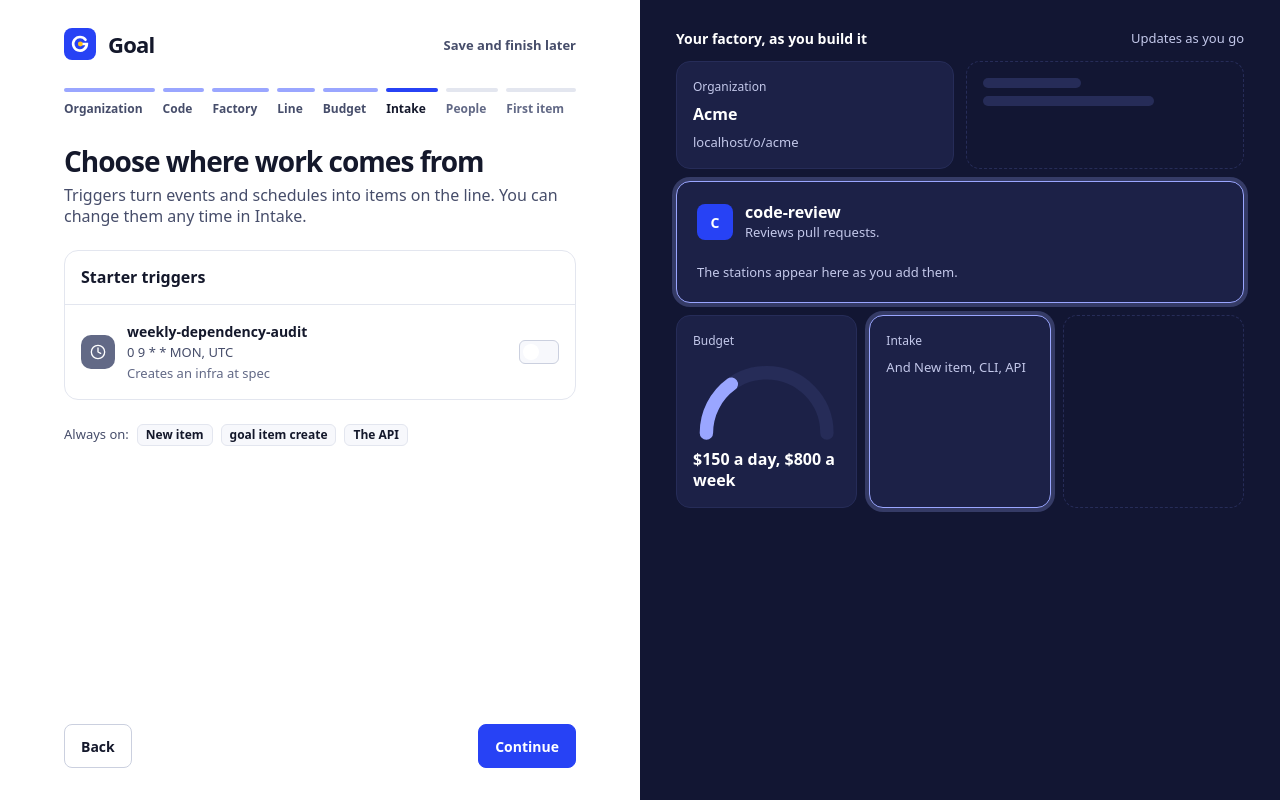
step 6, choose where work comes from › shows a refused publish on the step and stays on it
This screenshot has width=1280, height=800.
Click the switch named "weekly-dependency-audit" at (539, 352), box [519,340,559,364]
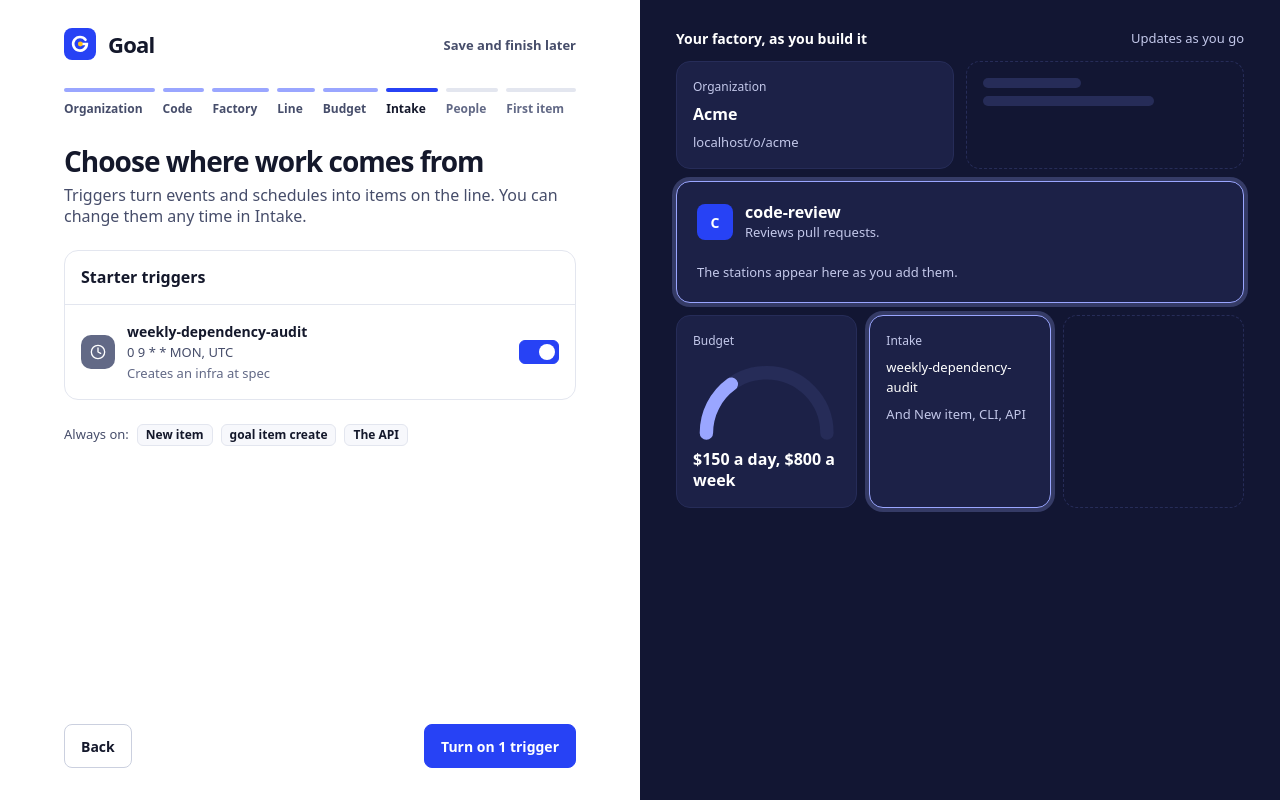
Click the button "Turn on 1 trigger" at (500, 746), box [424,724,576,768]
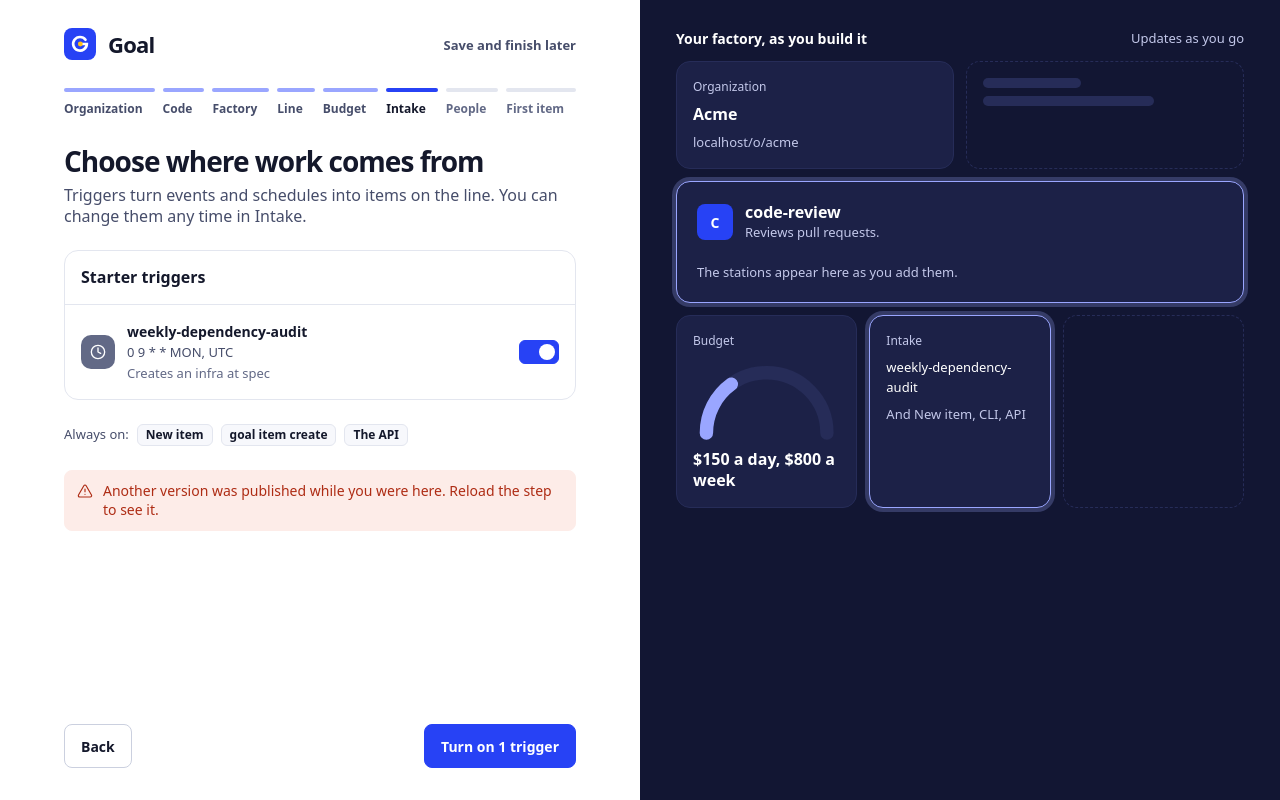
expect the heading "Choose where work comes from" is shown: met, box [64,142,484,180]
expect the text "Another version was published while you were here. Reload the step to see it." is shown: met, box [103,481,563,520]
